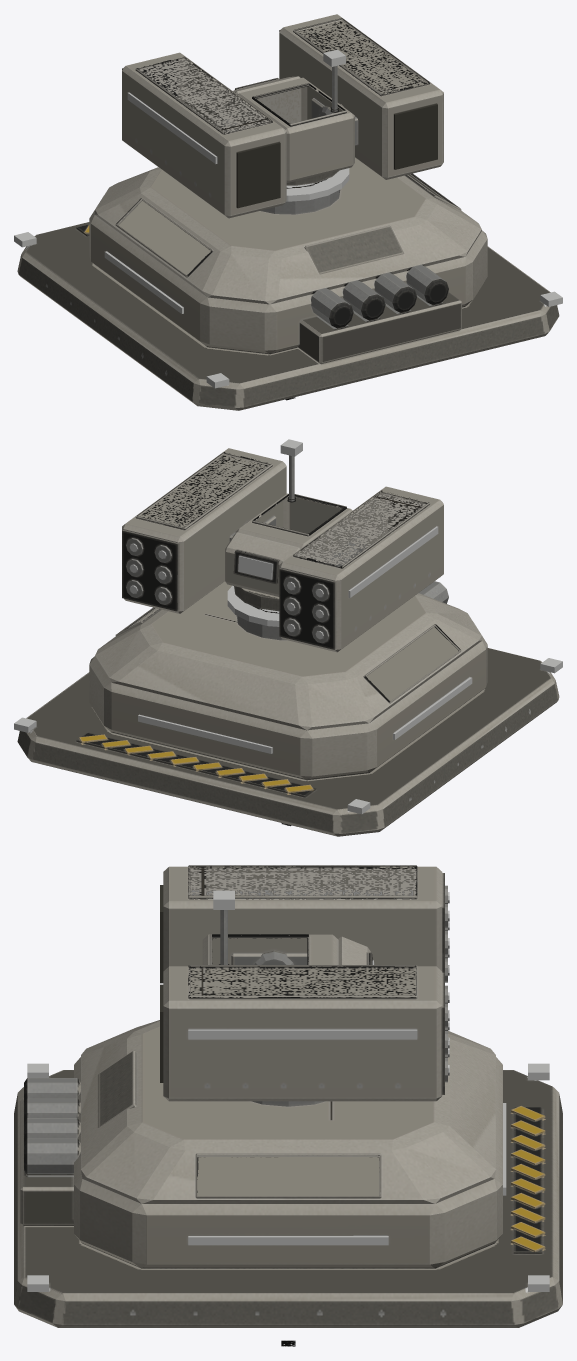
File: ord_vigil.fbx
The picture shows the model from 3 angles, top to bottom: view 1: azimuth 30°, elevation 25°; view 2: azimuth 150°, elevation 25°; view 3: azimuth 270°, elevation 25°; orthographic projection. The views are drawn at different scales.
Parts seen in each view (by area): view 1: base_bar, launcher_bar, base_glow_running_bar, launcher_glow_running_bar; view 2: base_bar, launcher_bar, base_glow_running_bar, launcher_glow_weapon_bar, launcher_glow_running_bar; view 3: base_bar, launcher_bar, base_glow_running_bar, launcher_glow_running_bar.
Part boxes in pixels (bbox=[...]): base_bar: bbox=[17, 157, 559, 410]; launcher_bar: bbox=[122, 14, 443, 218]; base_glow_running_bar: bbox=[14, 168, 562, 388]; launcher_glow_running_bar: bbox=[127, 49, 345, 163]; base_bar: bbox=[17, 581, 559, 836]; launcher_bar: bbox=[122, 448, 443, 652]; base_glow_running_bar: bbox=[14, 585, 562, 814]; launcher_glow_weapon_bar: bbox=[129, 543, 323, 639]; launcher_glow_running_bar: bbox=[280, 439, 438, 597]; base_bar: bbox=[14, 1020, 562, 1327]; launcher_bar: bbox=[160, 865, 447, 1101]; base_glow_running_bar: bbox=[27, 1063, 549, 1291]; launcher_glow_running_bar: bbox=[188, 890, 417, 1039].
Size of the model in its own units: 768 by 713 by 768.
Materials: 2 (2 with a texture image).
